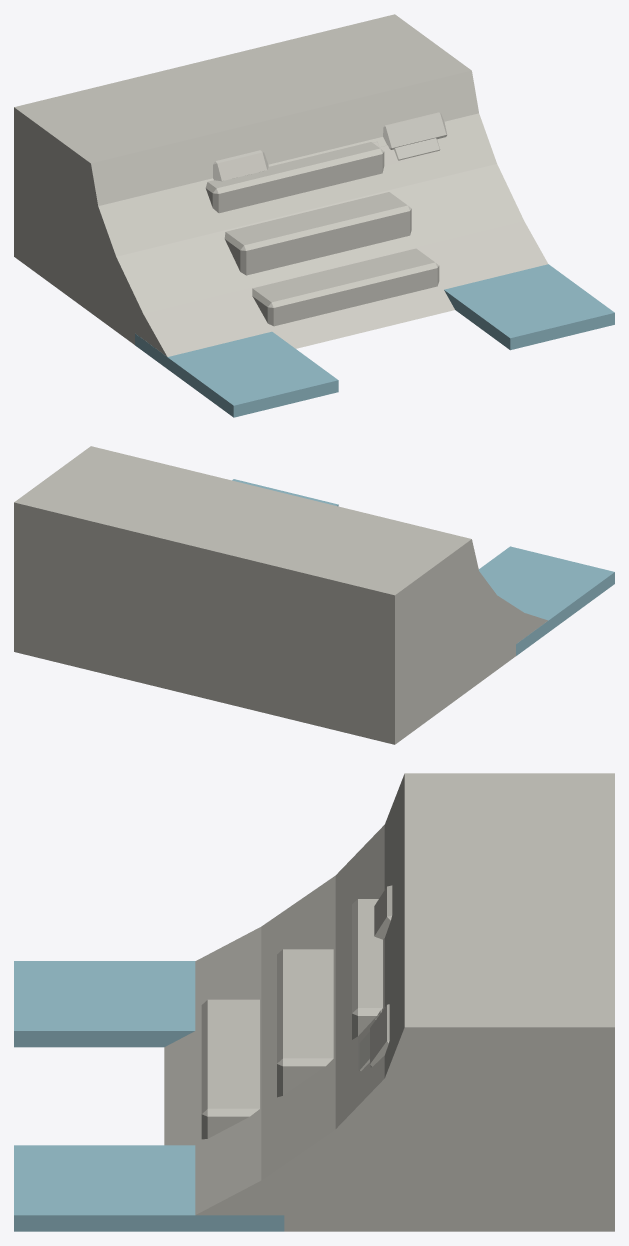
Rendered from feudal-japan-castle-town-moat-edge-steps-90c42da6__26596.glb.
3 renders of one model, top to bottom at view 1: azimuth 30°, elevation 25°; view 2: azimuth 150°, elevation 25°; view 3: azimuth 270°, elevation 25°, orthographic. The views are drawn at different scales.
Visible parts, largest first — view 1: moat-edge-steps; view 2: moat-edge-steps; view 3: moat-edge-steps.
Boxes of the visible parts, box(x1,y1,x2,y2) form: moat-edge-steps: box(14, 14, 614, 417); moat-edge-steps: box(14, 446, 614, 744); moat-edge-steps: box(14, 773, 614, 1231).
Bounding box in the file's own units: 4 × 1.5 × 4.
